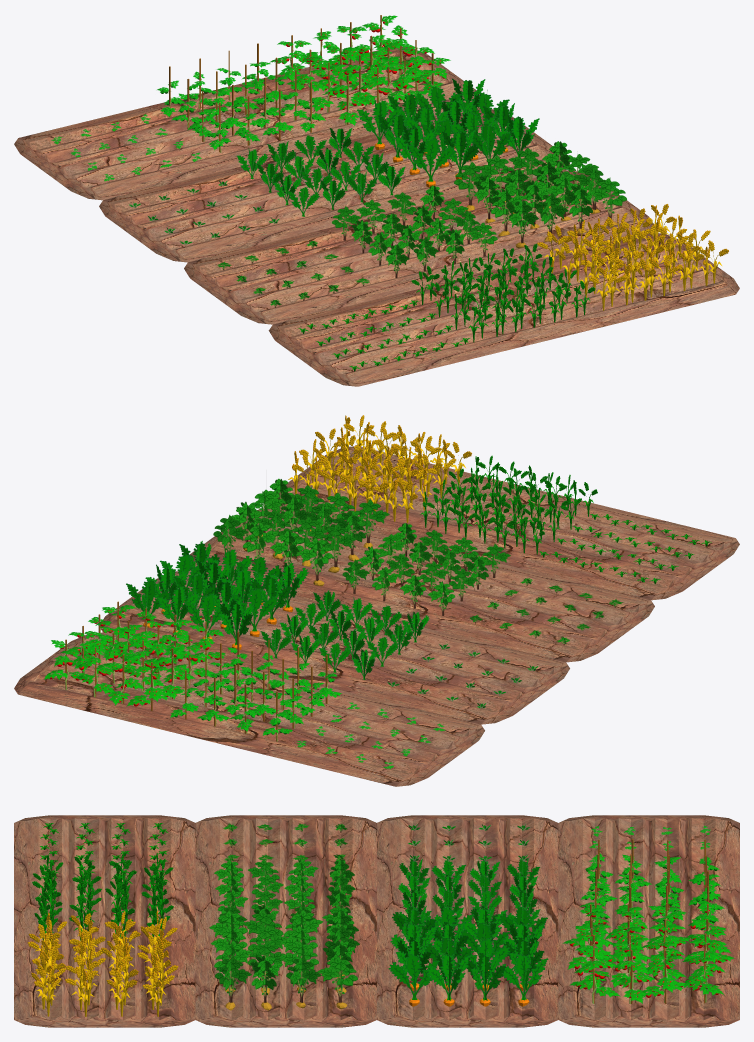
Rendered from farmLand.glb.
The picture shows the model from 3 angles, top to bottom: view 1: azimuth 30°, elevation 25°; view 2: azimuth 150°, elevation 25°; view 3: azimuth 270°, elevation 25°; orthographic projection. The views are drawn at different scales.
Visible parts, largest first — view 1: Soil.002, Soil, Soil.003, Soil.001, Carrot_F3, Potatoe_F3, Tomatoe_F3, Potatoe_F2, Carrot_F2, Tomatoe_F2, Wheat_F3_Wheat_0.001, Wheat_F3 (+8 smaller); view 2: Soil.003, Soil.002, Soil.001, Soil, Carrot_F3, Potatoe_F3, Tomatoe_F3, Potatoe_F2, Carrot_F2, Tomatoe_F2, Wheat_F3, Wheat_F3_Wheat_0.001 (+8 smaller); view 3: Soil.002, Soil.003, Soil, Soil.001, Carrot_F3, Tomatoe_F3, Potatoe_F3, Carrot_F2, Potatoe_F2, Tomatoe_F2, Wheat_F3_Wheat_0.001, Wheat_F3 (+8 smaller).
Boxes of the visible parts, x1=… form: Soil.002: x1=268, y1=233, x2=739, y2=386; Soil: x1=184, y1=170, x2=653, y2=324; Soil.003: x1=14, y1=46, x2=479, y2=200; Soil.001: x1=99, y1=108, x2=569, y2=262; Carrot_F3: x1=357, y1=78, x2=539, y2=187; Potatoe_F3: x1=454, y1=141, x2=626, y2=248; Tomatoe_F3: x1=269, y1=15, x2=450, y2=125; Potatoe_F2: x1=331, y1=185, x2=497, y2=277; Carrot_F2: x1=236, y1=127, x2=405, y2=216; Tomatoe_F2: x1=157, y1=43, x2=325, y2=152; Wheat_F3_Wheat_0.001: x1=561, y1=225, x2=728, y2=306; Wheat_F3: x1=537, y1=204, x2=686, y2=310; Soil.003: x1=14, y1=632, x2=484, y2=786; Soil.002: x1=278, y1=446, x2=739, y2=600; Soil.001: x1=100, y1=570, x2=569, y2=724; Soil: x1=190, y1=509, x2=654, y2=662; Carrot_F3: x1=126, y1=540, x2=308, y2=649; Potatoe_F3: x1=213, y1=478, x2=389, y2=586; Tomatoe_F3: x1=43, y1=601, x2=225, y2=711; Potatoe_F2: x1=342, y1=523, x2=510, y2=615; Carrot_F2: x1=260, y1=590, x2=429, y2=679; Tomatoe_F2: x1=170, y1=631, x2=341, y2=741; Wheat_F3: x1=288, y1=439, x2=471, y2=522; Wheat_F3_Wheat_0.001: x1=325, y1=415, x2=456, y2=509; Soil.002: x1=14, y1=815, x2=195, y2=1027; Soil.003: x1=558, y1=815, x2=739, y2=1027; Soil: x1=195, y1=815, x2=376, y2=1027; Soil.001: x1=377, y1=815, x2=558, y2=1027; Carrot_F3: x1=388, y1=905, x2=548, y2=1006; Tomatoe_F3: x1=562, y1=901, x2=734, y2=1004; Potatoe_F3: x1=209, y1=909, x2=359, y2=1010; Carrot_F2: x1=398, y1=858, x2=540, y2=930; Potatoe_F2: x1=214, y1=859, x2=355, y2=940; Tomatoe_F2: x1=580, y1=839, x2=726, y2=936; Wheat_F3_Wheat_0.001: x1=28, y1=913, x2=134, y2=1016; Wheat_F3: x1=39, y1=910, x2=178, y2=1016.
Bounding box in the file's own units: 7.52 × 0.8909 × 10.86.
Materials: 8 (8 with a texture image).
